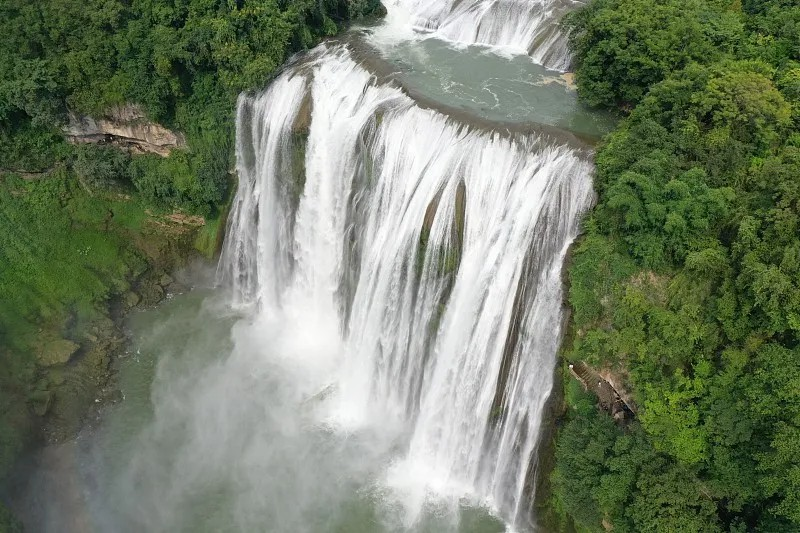Huangguoshu: (212, 39, 598, 527)
